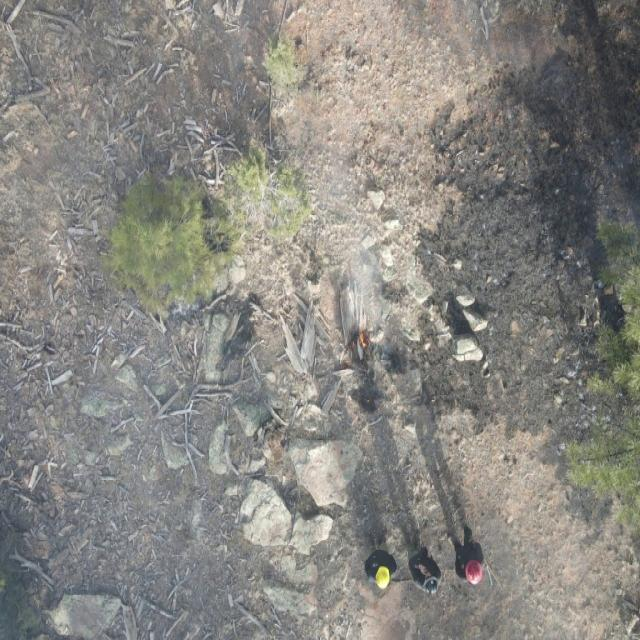fire: (352, 328, 369, 354), (362, 396, 382, 414), (337, 358, 351, 372)
smoke: (0, 0, 371, 640)
